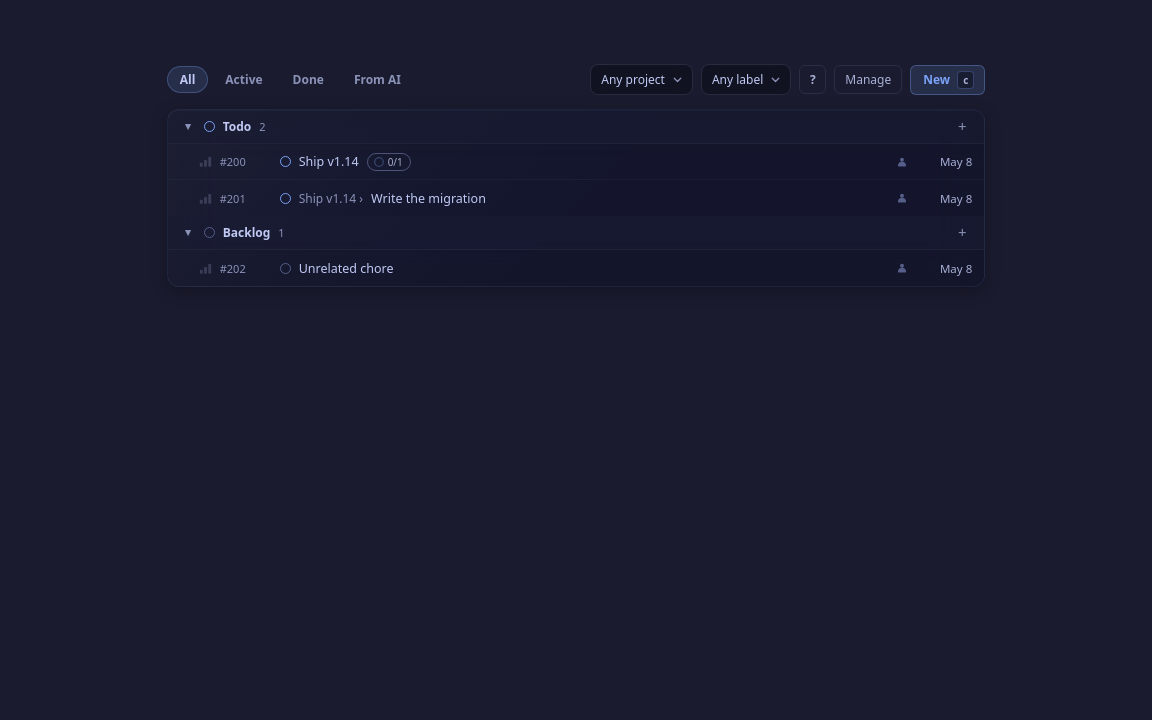
Scenario: TodosPage nesting › keeps a todo's own subtree out of the parent picker
Expected: the text "Ship v1.14" is shown, left=299, top=153, right=359, bottom=170
Right-click the button with aria-label "Edit Ship v1.14": (329, 162) left=199, top=144, right=972, bottom=179
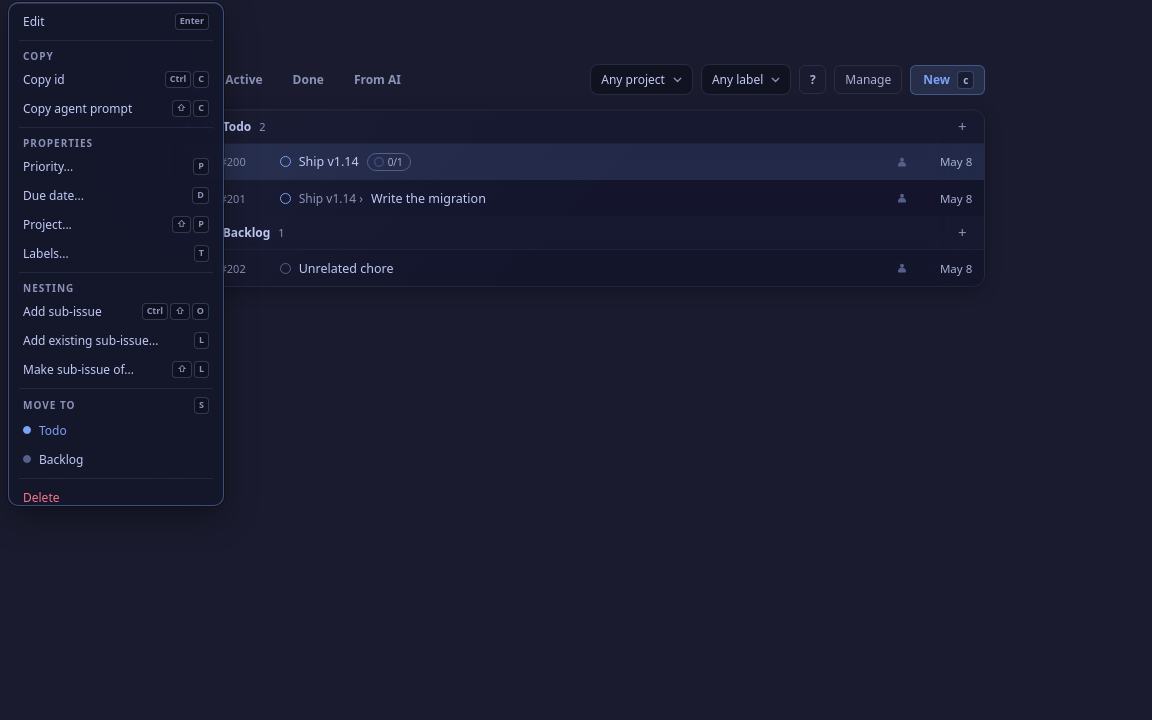
Click the menu item "Make sub-issue of... ⇧ L": (116, 370) left=13, top=355, right=219, bottom=384
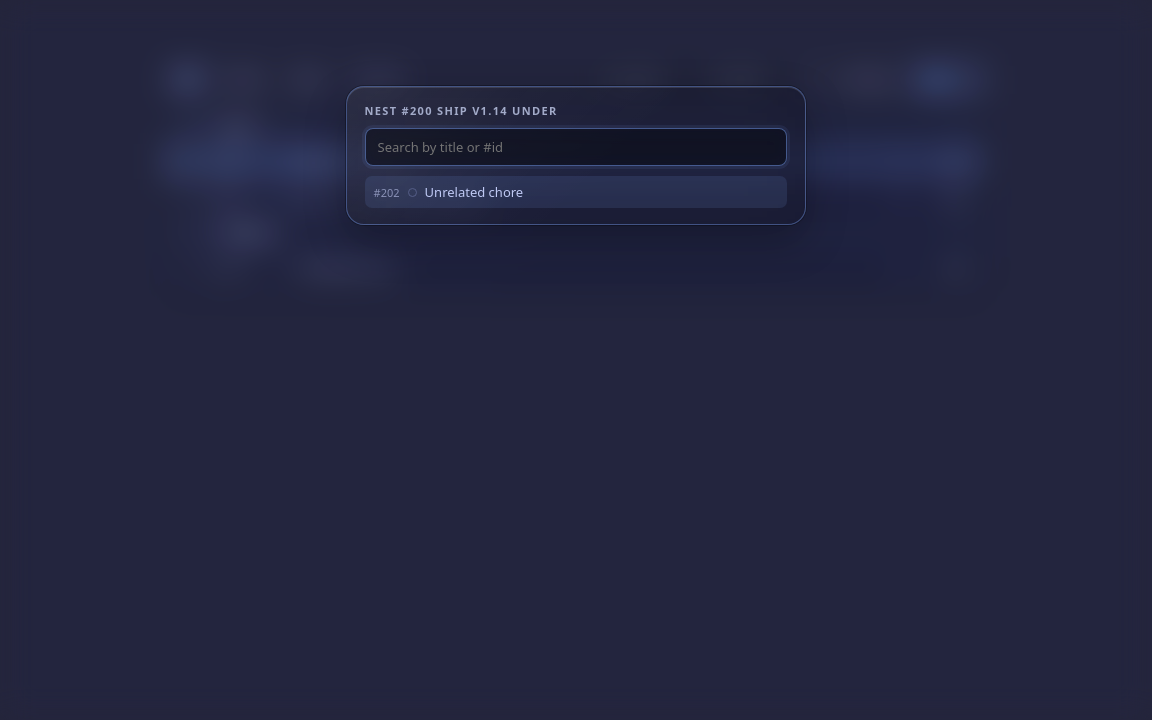
Expected: the text "Unrelated chore" is shown, left=425, top=183, right=523, bottom=201
